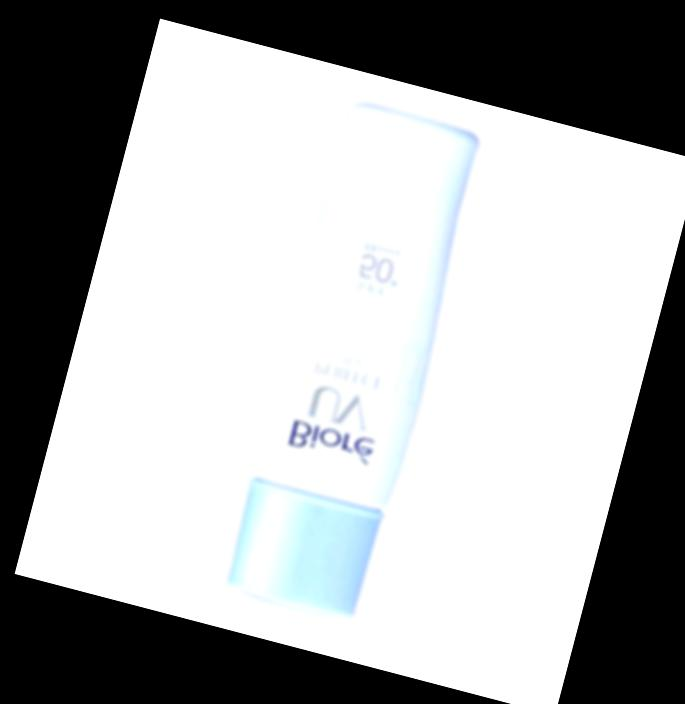cosmetic: (219, 101, 487, 619)
